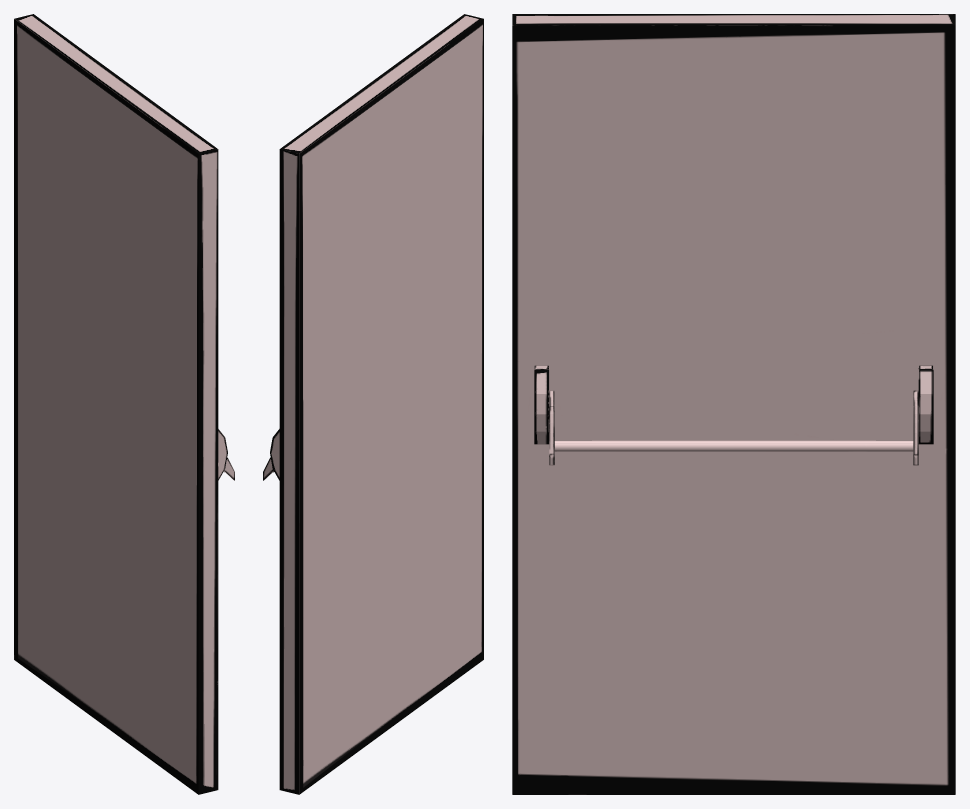
The model's file is emergency_exit_door.glb.
3 renders of one model, left to right at view 1: azimuth 30°, elevation 25°; view 2: azimuth 150°, elevation 25°; view 3: azimuth 270°, elevation 25°, orthographic. The views are drawn at different scales.
Visible parts, largest first — view 1: emergency_exit_door; view 2: emergency_exit_door; view 3: emergency_exit_door.
Boxes of the visible parts, box(x1,y1,x2,y2) form: emergency_exit_door: box(14, 14, 234, 794); emergency_exit_door: box(263, 14, 483, 794); emergency_exit_door: box(512, 14, 955, 794).
Size of the model in its own units: 0.3267 by 3.83 by 2.
Materials: 1 (1 with a texture image).
